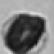correct: (0, 9, 50, 54)
